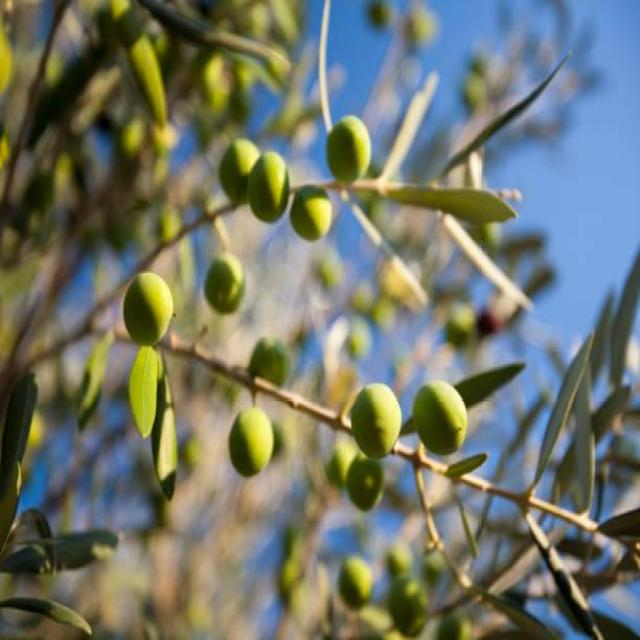Healthy: (219, 138, 288, 220), (411, 381, 466, 453), (350, 383, 402, 458), (123, 271, 173, 345), (229, 405, 273, 477), (130, 347, 163, 438), (326, 116, 369, 182), (205, 251, 245, 314), (290, 185, 333, 242)
